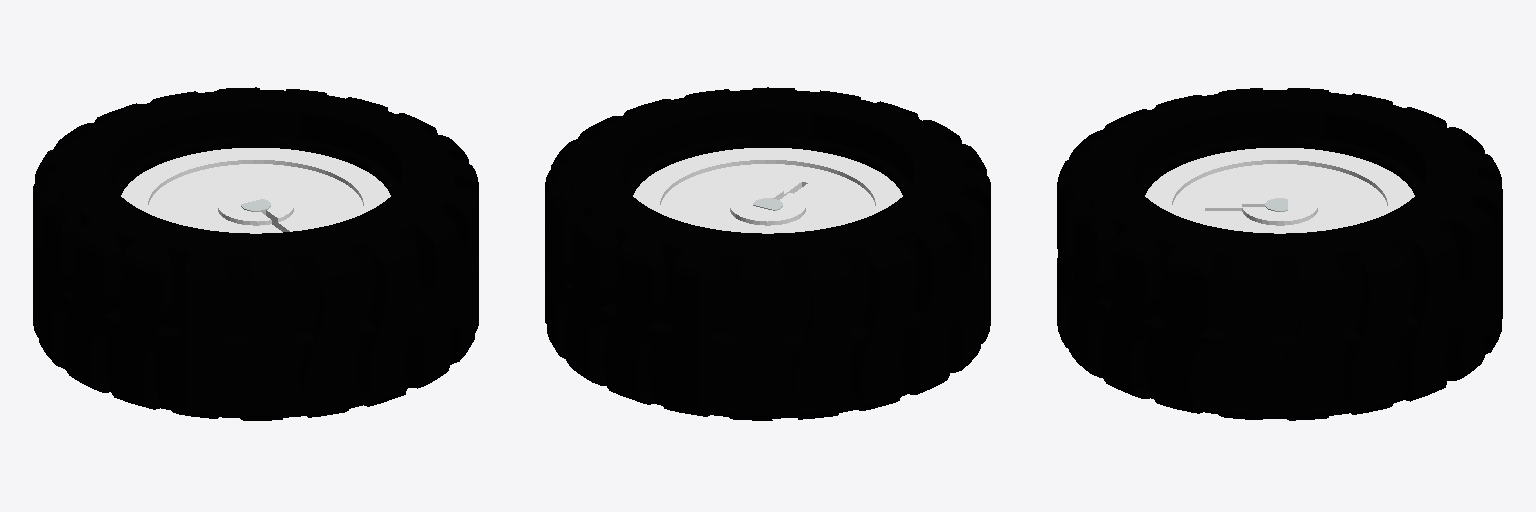
The model's file is wheel_L.obj.
3 renders of one model, left to right at view 1: azimuth 30°, elevation 25°; view 2: azimuth 150°, elevation 25°; view 3: azimuth 270°, elevation 25°, orthographic.
Visible parts, largest first — view 1: wheel_L; view 2: wheel_L; view 3: wheel_L.
Boxes of the visible parts, <box> form: wheel_L: <box>33,87,478,420</box>; wheel_L: <box>545,87,990,420</box>; wheel_L: <box>1057,88,1502,420</box>.
Bounding box in the file's own units: 0.044 × 0.0184 × 0.044.